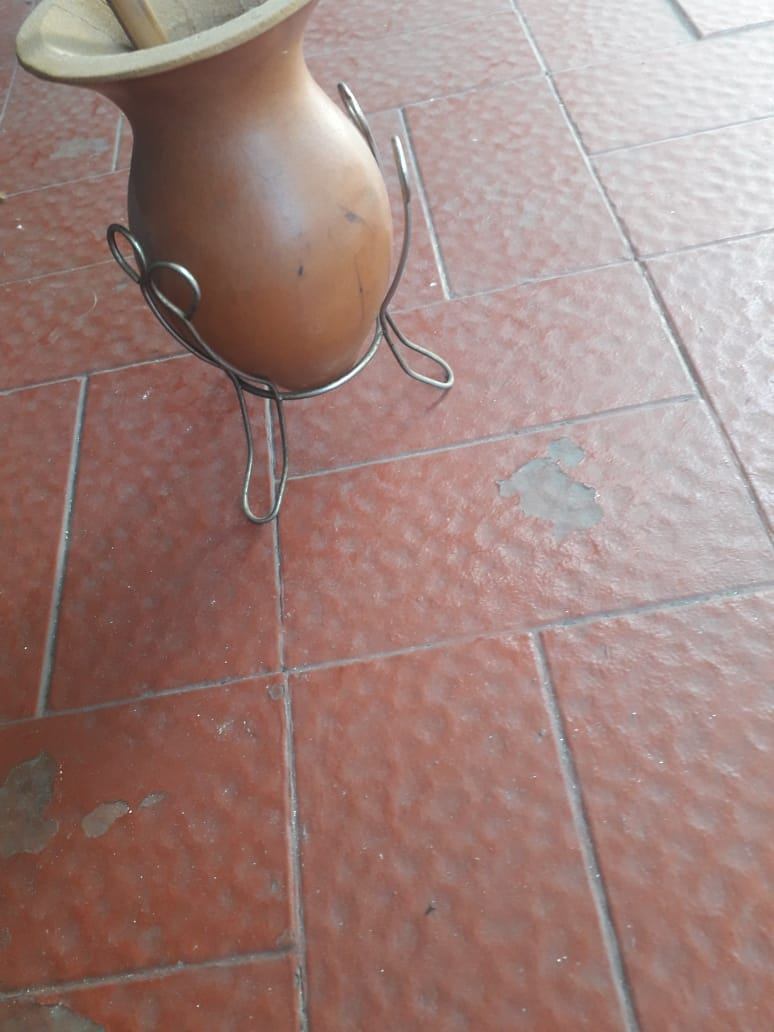calabaza: (17, 3, 456, 527)
mate: (15, 1, 454, 525)
